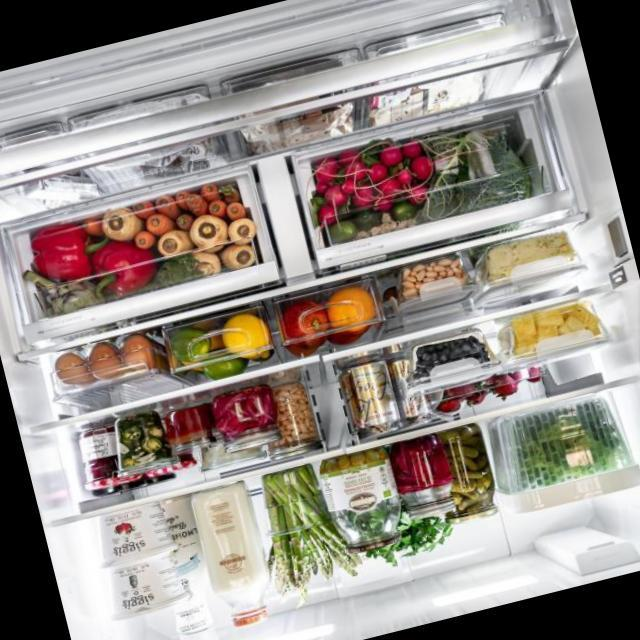Huevos: (49, 333, 154, 388)
Limón: (216, 310, 271, 362)
Manzana: (277, 296, 328, 339)
Yogur: (89, 499, 177, 568), (103, 549, 186, 619)
Zanahoria: (153, 193, 180, 222), (144, 211, 172, 236), (217, 180, 241, 206), (184, 191, 207, 217), (131, 229, 154, 251), (204, 196, 226, 219), (82, 216, 104, 239), (223, 200, 245, 220), (173, 188, 192, 210), (133, 200, 155, 219), (199, 182, 220, 200)
asparagus: (253, 462, 345, 585)
milk: (188, 480, 278, 630)
orange: (322, 283, 377, 335)
parsley: (391, 506, 441, 557)
strawberries: (490, 371, 517, 398), (434, 397, 460, 413), (464, 389, 486, 405), (523, 366, 542, 383)
